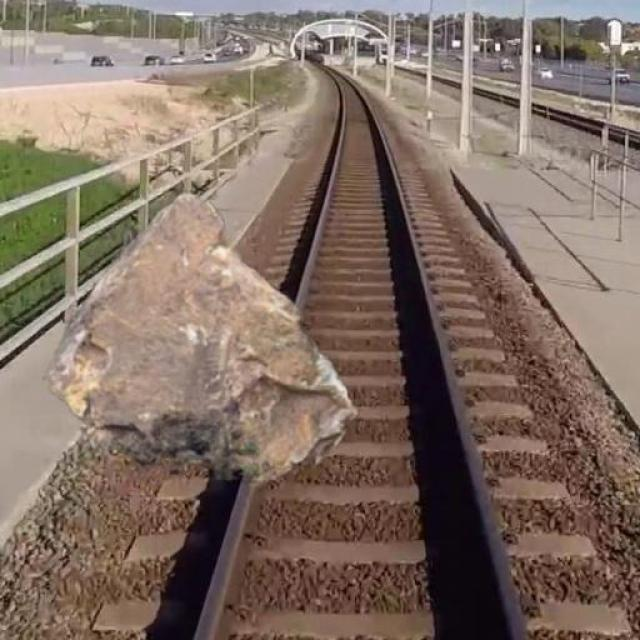Stone: (44, 187, 360, 488)
